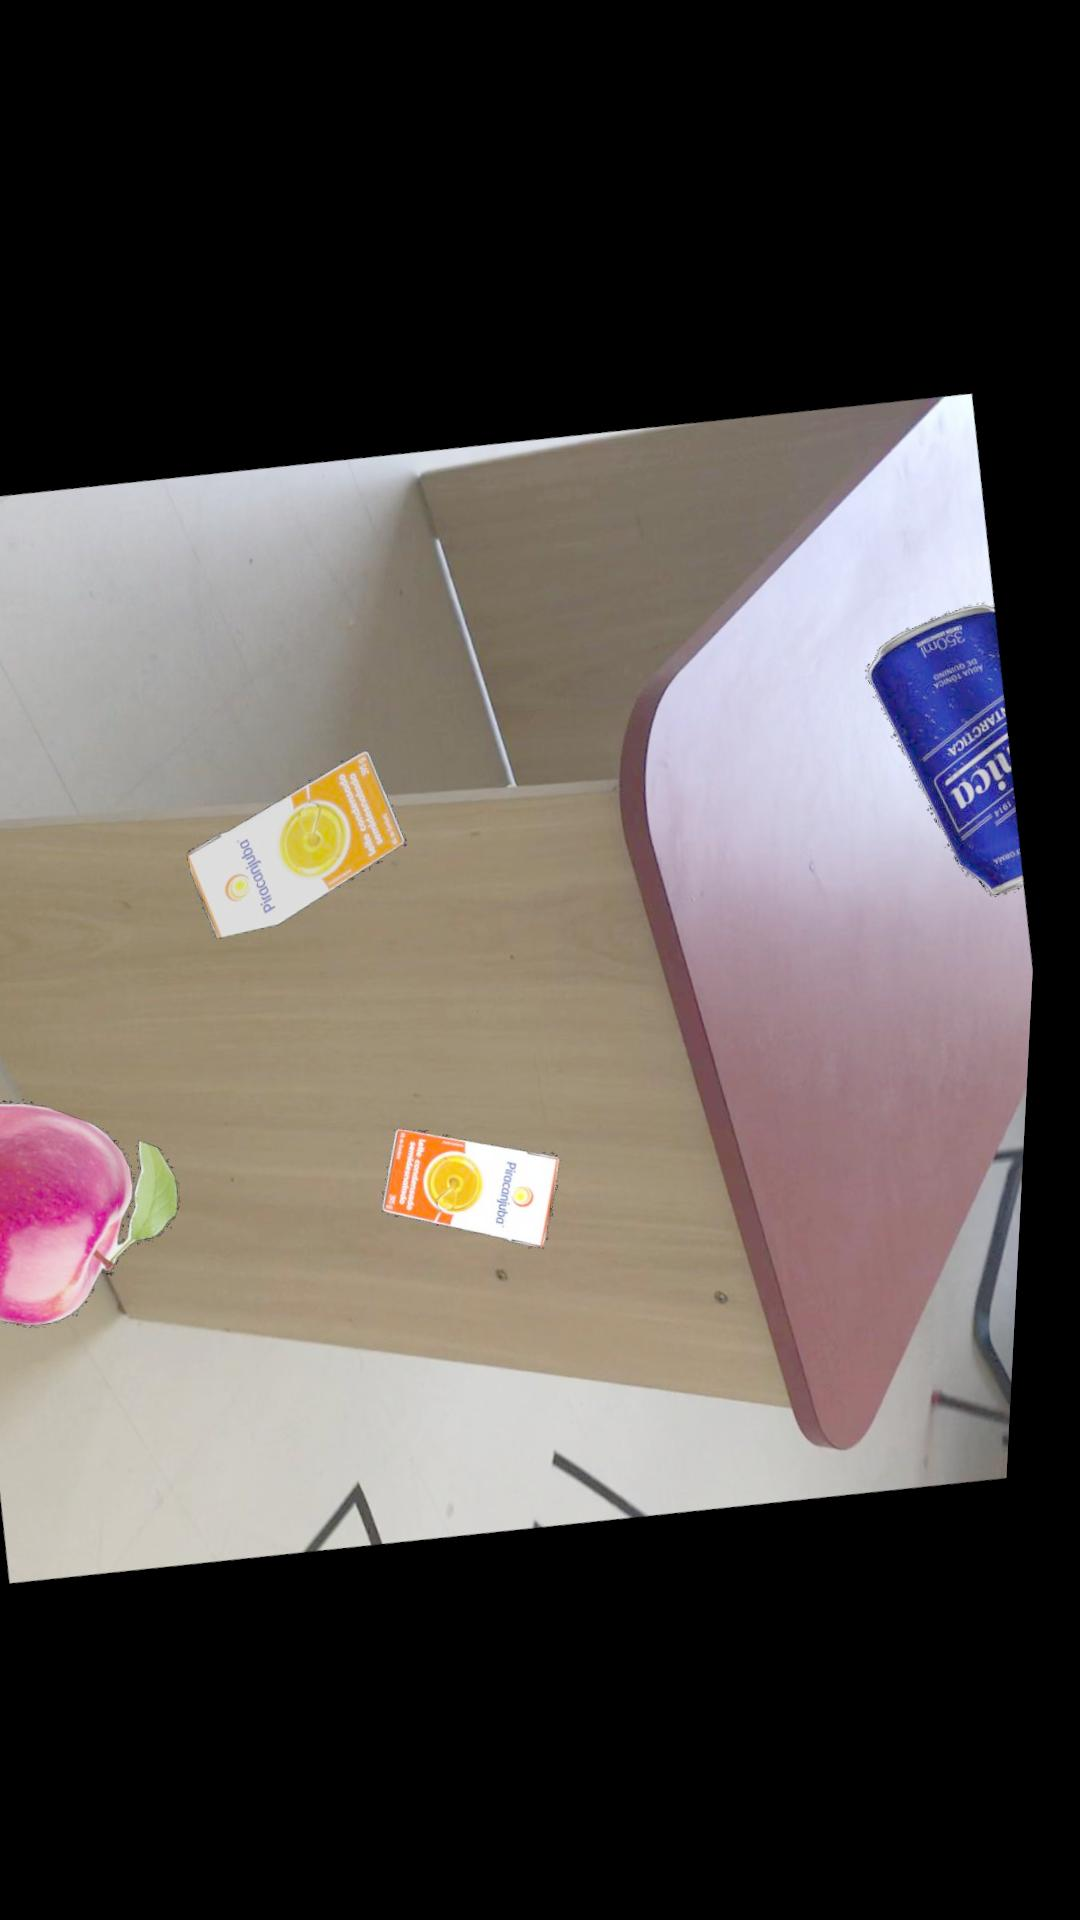apple: (0, 1101, 193, 1327)
tonic: (876, 595, 1033, 885)
